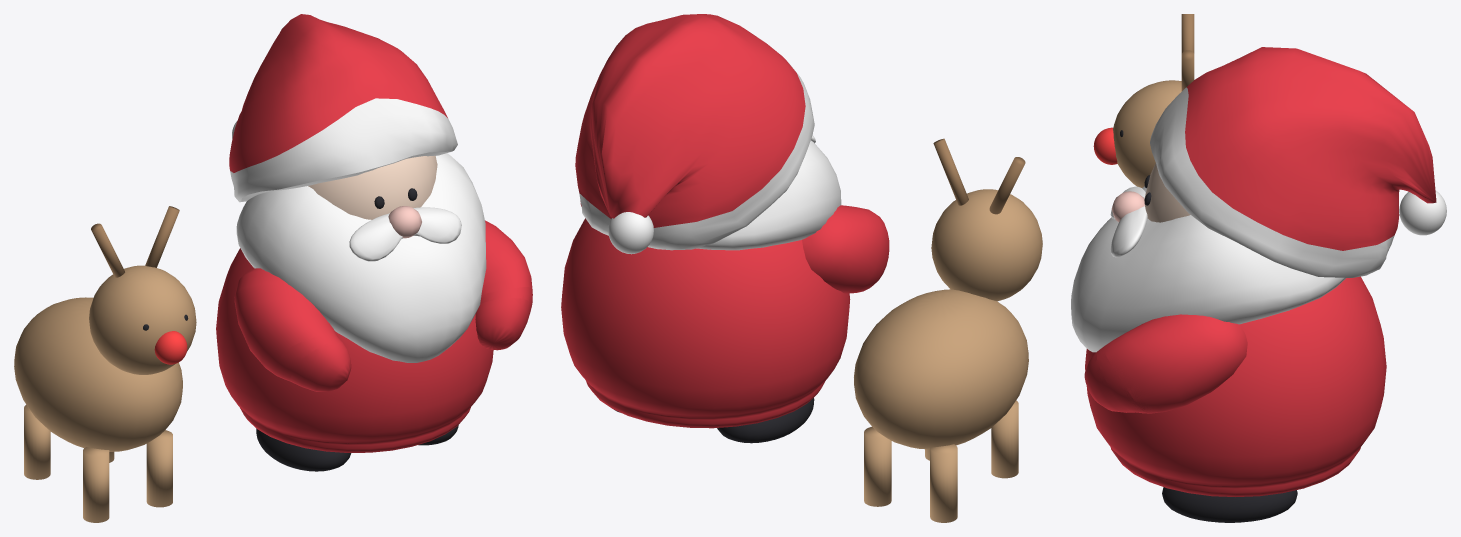
Rendered from rudolph.glb.
3 views of the same model, side by side, from view 1: azimuth 30°, elevation 25°; view 2: azimuth 150°, elevation 25°; view 3: azimuth 270°, elevation 25° (orthographic). The views are drawn at different scales.
Parts seen in each view (by area): view 1: rudolph_red, rudolph_white, rudolph_deer, rudolph_skin, rudolph_black, rudolph_brown, rudolph_rednose, rudolph_nose; view 2: rudolph_red, rudolph_deer, rudolph_white, rudolph_black, rudolph_brown; view 3: rudolph_red, rudolph_white, rudolph_deer, rudolph_black, rudolph_skin, rudolph_brown, rudolph_rednose, rudolph_nose.
Part boxes in pixels (bbox=[...]): rudolph_red: bbox=[216, 14, 532, 452]; rudolph_white: bbox=[230, 98, 486, 362]; rudolph_deer: bbox=[14, 265, 196, 522]; rudolph_skin: bbox=[308, 155, 437, 219]; rudolph_black: bbox=[143, 188, 458, 471]; rudolph_brown: bbox=[91, 206, 179, 277]; rudolph_rednose: bbox=[154, 331, 187, 364]; rudolph_nose: bbox=[388, 206, 421, 238]; rudolph_red: bbox=[561, 14, 889, 428]; rudolph_deer: bbox=[854, 189, 1042, 522]; rudolph_white: bbox=[579, 63, 841, 254]; rudolph_black: bbox=[614, 398, 814, 443]; rudolph_brown: bbox=[933, 138, 1025, 214]; rudolph_red: bbox=[1084, 47, 1436, 496]; rudolph_white: bbox=[1071, 87, 1446, 352]; rudolph_deer: bbox=[1113, 80, 1181, 187]; rudolph_black: bbox=[1120, 130, 1297, 522]; rudolph_skin: bbox=[1144, 163, 1190, 222]; rudolph_brown: bbox=[1181, 14, 1194, 91]; rudolph_rednose: bbox=[1093, 127, 1117, 164]; rudolph_nose: bbox=[1111, 191, 1144, 222].
Bounding box in the file's own units: 3.49 × 2.98 × 2.37.
